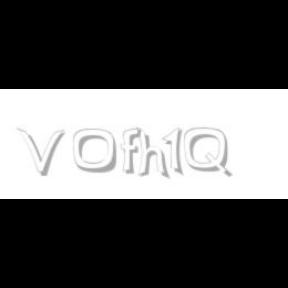1: (162, 128, 184, 176)
O: (72, 128, 118, 174)
Q: (184, 128, 230, 178)
V: (17, 128, 65, 176)
f: (121, 128, 145, 174)
h: (136, 128, 171, 180)
